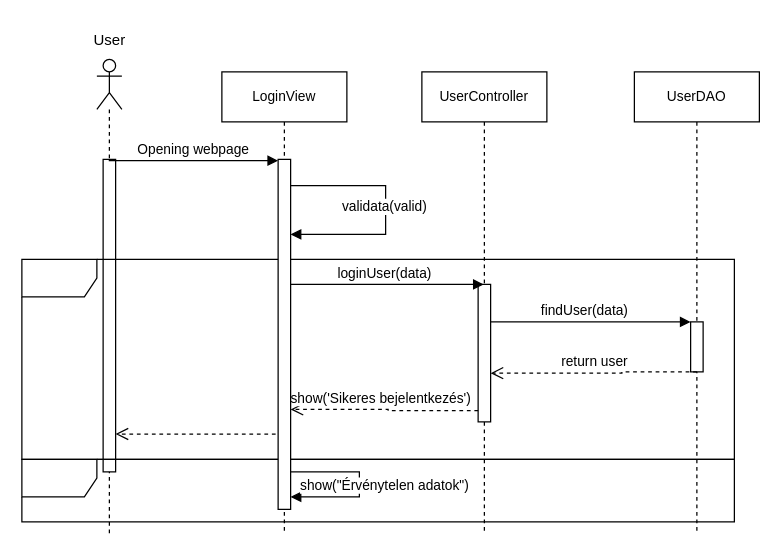
This 781x556 diagram has some shape labels left out. Here are the shapes that lost their labels. From the top down, the centre of each, then its label:
(377,358): Valid data
(377,490): Invalid data
